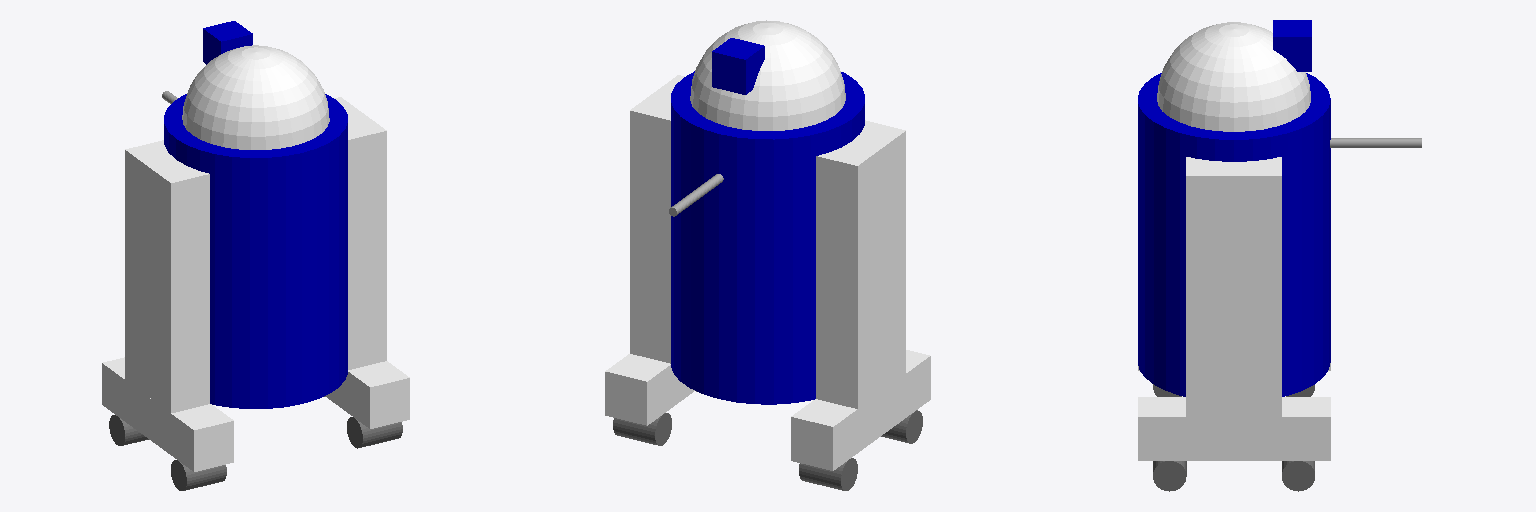
URDF robot description (physics):
<?xml version="1.0"?>
<robot name="physics">
  <link name="base_link">
    <visual>
      <geometry>
        <cylinder length="0.6" radius="0.2"/>
      </geometry>
      <material name="blue">
        <color rgba="0 0 .8 1"/>
      </material>
    </visual>
    <collision>
      <geometry>
        <cylinder length="0.6" radius="0.17"/>
      </geometry>
    </collision>
    <inertial>
      <mass value="10"/>
      <inertia ixx="1.0" ixy="0.0" ixz="0.0" iyy="1.0" iyz="0.0" izz="1.0"/>
    </inertial>
  </link>

  <link name="right_leg">
    <visual>
      <geometry>
        <box size="0.6 .2 .1"/>
      </geometry>
      <origin rpy="0 1.57075 0" xyz="0 0 -0.3"/>
      <material name="white">
        <color rgba="1 1 1 1"/>
      </material>
    </visual>
    <collision>
      <geometry>
        <box size="0.6 .2 .1"/>
      </geometry>
      <origin rpy="0 1.57075 0" xyz="0 0 -0.3"/>
    </collision>
    <inertial>
      <mass value="10"/>
      <origin rpy="0 1.57075 0" xyz="0 0 -0.3"/>
      <inertia ixx="1.0" ixy="0.0" ixz="0.0" iyy="1.0" iyz="0.0" izz="1.0"/>
    </inertial>
  </link>

  <joint name="base_to_right_leg" type="fixed">
    <parent link="base_link"/>
    <child link="right_leg"/>
    <origin xyz="0.22 0 .25"/>
  </joint>

  <link name="right_base">
    <visual>
      <geometry>
        <box size=".1 0.4 .1"/>
      </geometry>
      <material name="white"/>
    </visual>
    <collision>
      <geometry>
        <box size=".1 0.4 .1"/>
      </geometry>
    </collision>
    <inertial>
      <mass value="10"/>
      <inertia ixx="1.0" ixy="0.0" ixz="0.0" iyy="1.0" iyz="0.0" izz="1.0"/>
    </inertial>
  </link>

  <joint name="right_base_joint" type="fixed">
    <parent link="right_leg"/>
    <child link="right_base"/>
    <origin xyz="0 0 -0.6"/>
  </joint>

  <link name="right_front_wheel">
    <visual>
      <geometry>
        <cylinder length=".1" radius="0.035"/>
      </geometry>
      <material name="black">
        <color rgba="0.5 0.5 0.5 1"/>
      </material>
    </visual>
    <collision>
      <geometry>
        <cylinder length=".1" radius="0.035"/>
      </geometry>
    </collision>
    <inertial>
      <mass value="1"/>
      <inertia ixx="1.0" ixy="0.0" ixz="0.0" iyy="1.0" iyz="0.0" izz="1.0"/>
    </inertial>
  </link>

  <joint name="right_front_wheel_joint" type="continuous">
    <axis xyz="0 0 1"/>
    <parent link="right_base"/>
    <child link="right_front_wheel"/>
    <origin rpy="0 1.57075 0" xyz="0 0.133333333333 -0.085"/>
    <limit effort="100" velocity="100"/>
    <joint_properties damping="0.0" friction="0.0"/>
  </joint>

  <link name="right_back_wheel">
    <visual>
      <geometry>
        <cylinder length=".1" radius="0.035"/>
      </geometry>
      <material name="black"/>
    </visual>
    <collision>
      <geometry>
        <cylinder length=".1" radius="0.035"/>
      </geometry>
    </collision>
    <inertial>
      <mass value="1"/>
      <inertia ixx="1.0" ixy="0.0" ixz="0.0" iyy="1.0" iyz="0.0" izz="1.0"/>
    </inertial>
  </link>

  <joint name="right_back_wheel_joint" type="continuous">
    <axis xyz="0 0 1"/>
    <parent link="right_base"/>
    <child link="right_back_wheel"/>
    <origin rpy="0 1.57075 0" xyz="0 -0.133333333333 -0.085"/>
    <limit effort="100" velocity="100"/>
    <joint_properties damping="0.0" friction="0.0"/>
  </joint>

  <link name="left_leg">
    <visual>
      <geometry>
        <box size="0.6 .2 .1"/>
      </geometry>
      <origin rpy="0 1.57075 0" xyz="0 0 -0.3"/>
      <material name="white"/>
    </visual>
    <collision>
      <geometry>
        <box size="0.6 .2 .1"/>
      </geometry>
      <origin rpy="0 1.57075 0" xyz="0 0 -0.3"/>
    </collision>
    <inertial>
      <mass value="10"/>
      <inertia ixx="1.0" ixy="0.0" ixz="0.0" iyy="1.0" iyz="0.0" izz="1.0"/>
       <origin rpy="0 1.57075 0" xyz="0 0 -0.3"/>
    </inertial>
  </link>

  <joint name="base_to_left_leg" type="fixed">
    <parent link="base_link"/>
    <child link="left_leg"/>
    <origin xyz="-0.22 0 .25"/>
  </joint>

  <link name="left_base">
    <visual>
      <geometry>
        <box size=".1 0.4 .1"/>
      </geometry>
      <material name="white"/>
    </visual>
    <collision>
      <geometry>
        <box size=".1 0.4 .1"/>
      </geometry>
    </collision>
    <inertial>
      <mass value="10"/>
      <inertia ixx="1.0" ixy="0.0" ixz="0.0" iyy="1.0" iyz="0.0" izz="1.0"/>
    </inertial>
  </link>

  <joint name="left_base_joint" type="fixed">
    <parent link="left_leg"/>
    <child link="left_base"/>
    <origin xyz="0 0 -0.6"/>
  </joint>

  <link name="left_front_wheel">
    <visual>
      <geometry>
        <cylinder length=".1" radius="0.035"/>
      </geometry>
      <material name="black"/>
    </visual>
    <collision>
      <geometry>
        <cylinder length=".1" radius="0.035"/>
      </geometry>
    </collision>
    <inertial>
      <mass value="1"/>
      <inertia ixx="1.0" ixy="0.0" ixz="0.0" iyy="1.0" iyz="0.0" izz="1.0"/>
    </inertial>
  </link>

  <joint name="left_front_wheel_joint" type="continuous">
    <axis xyz="0 0 1"/>
    <parent link="left_base"/>
    <child link="left_front_wheel"/>
    <origin rpy="0 1.57075 0" xyz="0 0.133333333333 -0.085"/>
    <limit effort="100" velocity="100"/>
    <joint_properties damping="0.0" friction="0.0"/>
  </joint>

  <link name="left_back_wheel">
    <visual>
      <geometry>
        <cylinder length=".1" radius="0.035"/>
      </geometry>
      <material name="black"/>
    </visual>
    <collision>
      <geometry>
        <cylinder length=".1" radius="0.035"/>
      </geometry>
    </collision>
    <inertial>
      <mass value="1"/>
      <inertia ixx="1.0" ixy="0.0" ixz="0.0" iyy="1.0" iyz="0.0" izz="1.0"/>
    </inertial>
  </link>

  <joint name="left_back_wheel_joint" type="continuous">
    <axis xyz="0 0 1"/>
    <parent link="left_base"/>
    <child link="left_back_wheel"/>
    <origin rpy="0 1.57075 0" xyz="0 -0.133333333333 -0.085"/>
    <limit effort="100" velocity="100"/>
    <joint_properties damping="0.0" friction="0.0"/>
  </joint>
  <joint name="gripper_extension" type="prismatic">
    <axis xyz="1 0 0"/>
    <parent link="base_link"/>
    <child link="gripper_pole"/>
    <limit effort="1000.0" lower="-0.38" upper="0" velocity="0.5"/>
    <origin rpy="0 0 1.57075" xyz="0 0.19 .2"/>
  </joint>

  <link name="gripper_pole">
    <visual>
      <geometry>
        <cylinder length="0.2" radius=".01"/>
      </geometry>
      <origin rpy="0 1.57075 0 " xyz="0.1 0 0"/>
      <material name="Gray">
        <color rgba=".7 .7 .7 1"/>
      </material>
    </visual>
    <collision>
      <geometry>
        <cylinder length="0.2" radius=".01"/>
      </geometry>
      <origin rpy="0 1.57075 0 " xyz="0.1 0 0"/>
    </collision>
    <inertial>
      <mass value="0.05"/>
      <inertia ixx="1.0" ixy="0.0" ixz="0.0" iyy="1.0" iyz="0.0" izz="1.0"/>
    </inertial>
  </link>

  <joint name="left_gripper_joint" type="revolute">
    <axis xyz="0 0 1"/>
    <limit effort="1000.0" lower="0.0" upper="0.548" velocity="0.5"/>
    <origin rpy="0 0 0" xyz="0.2 0.02 0"/>
    <parent link="gripper_pole"/>
    <child link="left_gripper"/>
  </joint>

  <link name="left_gripper">
    <visual>
      <origin rpy="0.0 0 0" xyz="0 0 0"/>
      <geometry>
        <mesh filename="l_finger.stl"/>
      </geometry>
    </visual>
    <collision>
      <geometry>
        <mesh filename="l_finger.stl"/>
      </geometry>
      <origin rpy="0.0 0 0" xyz="0 0 0"/>
    </collision>
    <inertial>
      <mass value="0.05"/>
      <inertia ixx="1.0" ixy="0.0" ixz="0.0" iyy="1.0" iyz="0.0" izz="1.0"/>
    </inertial>
  </link>

  <joint name="left_tip_joint" type="fixed">
    <parent link="left_gripper"/>
    <child link="left_tip"/>
  </joint>

  <link name="left_tip">
    <visual>
      <origin rpy="0.0 0 0" xyz="0.09137 0.00495 0"/>
      <geometry>
        <mesh filename="l_finger_tip.stl"/>
      </geometry>
    </visual>
    <collision>
      <geometry>
        <mesh filename="l_finger_tip.stl"/>
      </geometry>
      <origin rpy="0.0 0 0" xyz="0.09137 0.00495 0"/>
    </collision>
    <inertial>
      <mass value="0.05"/>
      <inertia ixx="1.0" ixy="0.0" ixz="0.0" iyy="1.0" iyz="0.0" izz="1.0"/>
    </inertial>
  </link>

  <joint name="right_gripper_joint" type="revolute">
    <axis xyz="0 0 -1"/>
    <limit effort="1000.0" lower="0.0" upper="0.548" velocity="0.5"/>
    <origin rpy="0 0 0" xyz="0.2 -0.02 0"/>
    <parent link="gripper_pole"/>
    <child link="right_gripper"/>
  </joint>

  <link name="right_gripper">
    <visual>
      <origin rpy="-3.1415 0 0" xyz="0 0 0"/>
      <geometry>
        <mesh filename="l_finger.stl"/>
      </geometry>
    </visual>
    <collision>
      <geometry>
        <mesh filename="l_finger.stl"/>
      </geometry>
      <origin rpy="-3.1415 0 0" xyz="0 0 0"/>
    </collision>
    <inertial>
      <mass value="0.05"/>
      <inertia ixx="1.0" ixy="0.0" ixz="0.0" iyy="1.0" iyz="0.0" izz="1.0"/>
    </inertial>
  </link>

  <joint name="right_tip_joint" type="fixed">
    <parent link="right_gripper"/>
    <child link="right_tip"/>
  </joint>

  <link name="right_tip">
    <visual>
      <origin rpy="-3.1415 0 0" xyz="0.09137 0.00495 0"/>
      <geometry>
        <mesh filename="l_finger_tip.stl"/>
      </geometry>
    </visual>
    <collision>
      <geometry>
        <mesh filename="l_finger_tip.stl"/>
      </geometry>
      <origin rpy="-3.1415 0 0" xyz="0.09137 0.00495 0"/>
    </collision>
    <inertial>
      <mass value="0.05"/>
      <inertia ixx="1.0" ixy="0.0" ixz="0.0" iyy="1.0" iyz="0.0" izz="1.0"/>
    </inertial>
  </link>

  <link name="head">
    <visual>
      <geometry>
        <sphere radius="0.16"/>
      </geometry>
      <material name="white"/>
    </visual>
    <collision>
      <geometry>
        <sphere radius="0.16"/>
      </geometry>
    </collision>
    <inertial>
      <mass value="10"/>
      <inertia ixx="1.0" ixy="0.0" ixz="0.0" iyy="1.0" iyz="0.0" izz="1.0"/>
    </inertial>
  </link>

  <joint name="head_swivel" type="continuous">
    <parent link="base_link"/>
    <child link="head"/>
    <axis xyz="0 0 1"/>
    <origin xyz="0 0 0.3"/>
<limit effort="1000.0" lower="-0.38" upper="0" velocity="0.5"/>
  </joint>

  <link name="box">
    <visual>
      <geometry>
        <box size=".08 .08 .08"/>
      </geometry>
      <material name="blue"/>
    </visual>
    <collision>
      <geometry>
        <box size=".08 .08 .08"/>
      </geometry>
    </collision>
    <inertial>
      <mass value="1"/>
      <inertia ixx="1.0" ixy="0.0" ixz="0.0" iyy="1.0" iyz="0.0" izz="1.0"/>
    </inertial>
  </link>

  <joint name="tobox" type="fixed">
    <parent link="head"/>
    <child link="box"/>
    <origin xyz="0 0.1214 0.1214"/>
  </joint>

</robot>

--- Render facts (derived) ---
Views: 3 orthographic renders of the robot side by side, from view 1: azimuth 30°, elevation 25°; view 2: azimuth 150°, elevation 25°; view 3: azimuth 270°, elevation 25°.
Model physics with 16 links and 15 joints (2 revolute, 5 continuous, 1 prismatic, 7 fixed), rooted at base_link, posed every joint at zero.
Visible links, largest first — view 1: base_link, left_leg, head, right_leg, left_base, right_base, box, right_back_wheel, left_back_wheel, left_front_wheel; view 2: base_link, left_leg, head, right_leg, left_base, right_base, box, right_front_wheel, left_front_wheel, left_back_wheel, gripper_pole; view 3: base_link, right_leg, head, right_base, box, right_back_wheel, gripper_pole, right_front_wheel.
Link boxes in pixels (<box>): base_link: <box>164,94,347,408</box>; left_leg: <box>125,140,209,412</box>; head: <box>182,45,329,149</box>; right_leg: <box>334,97,386,369</box>; left_base: <box>102,357,233,471</box>; right_base: <box>325,361,409,428</box>; box: <box>203,21,252,64</box>; right_back_wheel: <box>347,417,402,448</box>; left_back_wheel: <box>171,460,226,490</box>; left_front_wheel: <box>109,415,148,445</box>; base_link: <box>671,71,864,404</box>; left_leg: <box>816,120,905,408</box>; head: <box>690,20,845,130</box>; right_leg: <box>630,75,684,363</box>; left_base: <box>791,350,930,470</box>; right_base: <box>605,354,694,425</box>; box: <box>712,38,764,94</box>; right_front_wheel: <box>613,413,671,445</box>; left_front_wheel: <box>799,458,857,490</box>; left_back_wheel: <box>881,410,922,443</box>; gripper_pole: <box>669,174,723,216</box>; base_link: <box>1138,73,1330,396</box>; right_leg: <box>1186,157,1281,438</box>; head: <box>1157,22,1310,131</box>; right_base: <box>1138,397,1330,460</box>; box: <box>1273,20,1311,71</box>; right_back_wheel: <box>1153,461,1186,491</box>; gripper_pole: <box>1330,138,1421,147</box>; right_front_wheel: <box>1282,461,1314,491</box>.
Bounding box of the posed robot: 0.54 × 0.59 × 0.9314 m (x, y, z).
0 mesh visuals loaded from 2 distinct referenced files (none loaded); not drawn: 4 (reference not matched to a file when rendering).